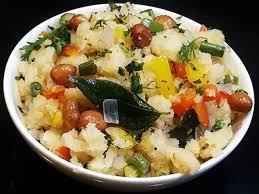upma: (8, 6, 256, 175)
